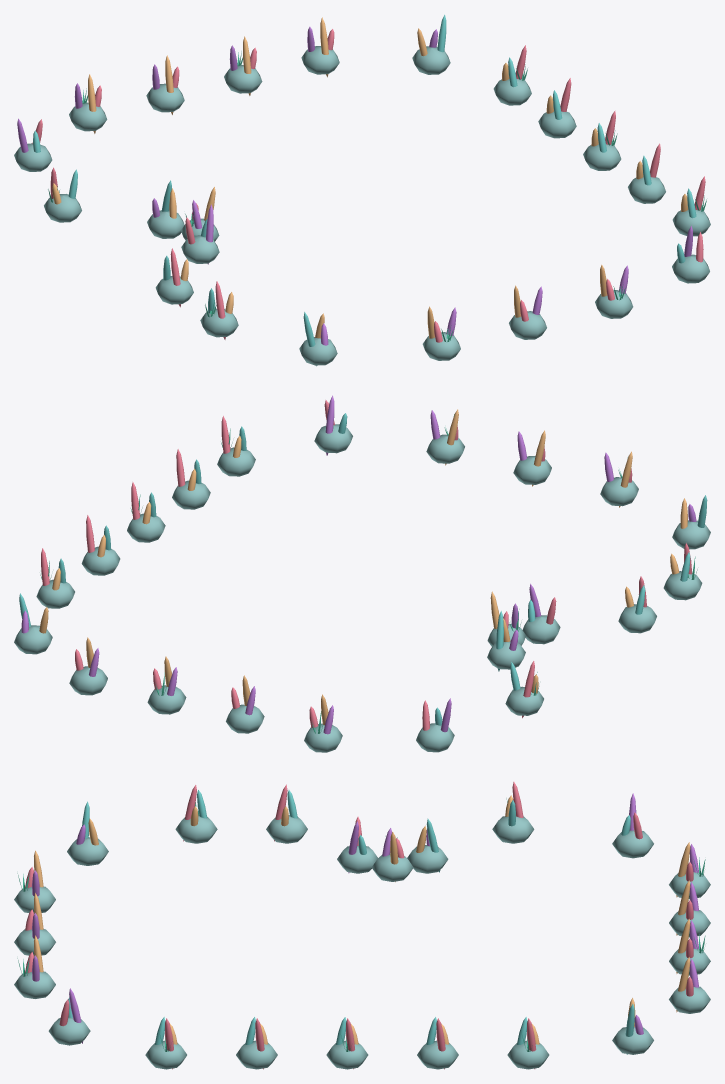
File: reef-02-BreKCxzN.glb
The picture shows the model from 3 angles, top to bottom: view 1: azimuth 30°, elevation 25°; view 2: azimuth 150°, elevation 25°; view 3: azimuth 270°, elevation 25°; orthographic projection.
Parts seen in each view (by area): view 1: ReefRock, Coral2, Coral0, Coral3, Coral1; view 2: ReefRock, Coral2, Coral0, Coral1, Coral3; view 3: ReefRock, Coral0, Coral2, Coral3, Coral1.
Part boxes in pixels (x1,y1,x2,y2): ReefRock: [14, 46, 710, 365]; Coral2: [52, 17, 688, 338]; Coral0: [32, 29, 705, 342]; Coral3: [33, 14, 696, 366]; Coral1: [17, 26, 692, 345]; ReefRock: [14, 424, 710, 752]; Coral2: [39, 409, 687, 725]; Coral0: [41, 400, 692, 730]; Coral1: [21, 395, 696, 734]; Coral3: [19, 413, 707, 725]; ReefRock: [14, 815, 710, 1069]; Coral0: [25, 781, 693, 1069]; Coral2: [34, 795, 690, 1044]; Coral3: [68, 790, 634, 1054]; Coral1: [32, 793, 698, 1043].
Size of the model in its own units: 19 by 2.06 by 23.1.
